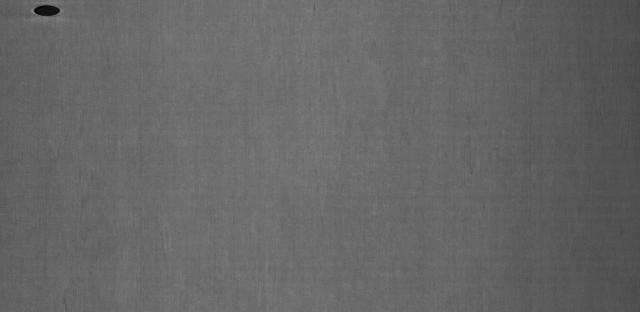punching_hole: (28, 3, 64, 18)
